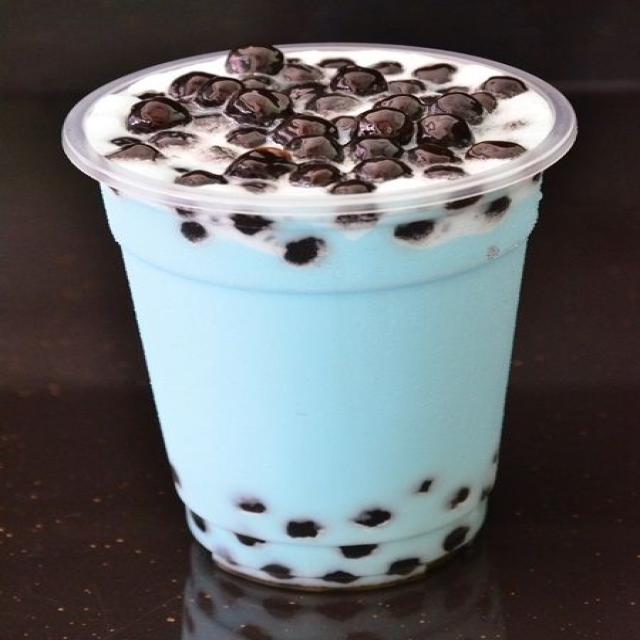plastic cup: (63, 42, 578, 593)
